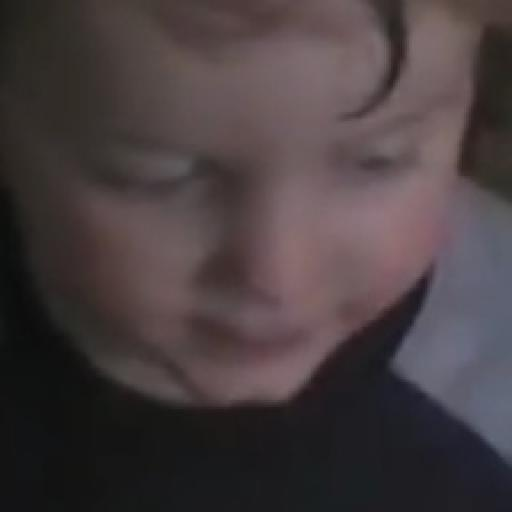Autism: (23, 10, 512, 441)
